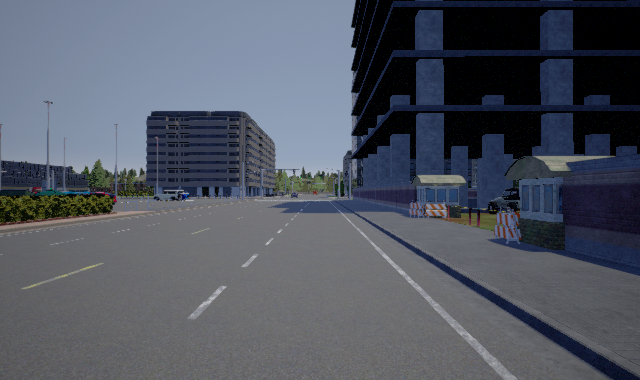vehicle: (488, 187, 520, 214), (153, 190, 189, 201)
